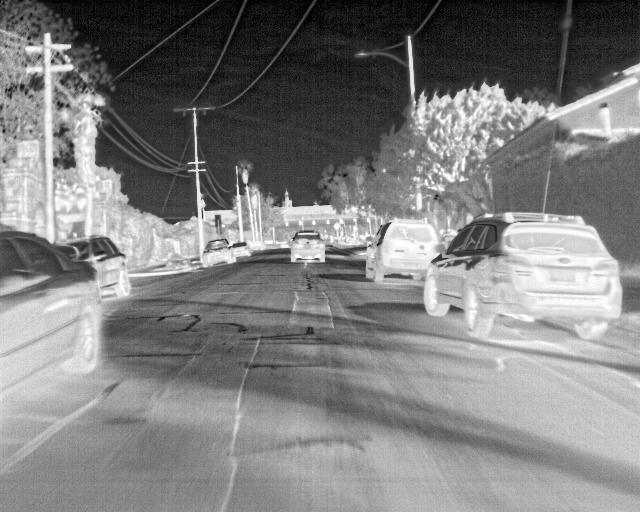car: (421, 208, 623, 343), (0, 229, 102, 387), (363, 219, 438, 286), (54, 235, 131, 299), (290, 228, 327, 265), (202, 237, 238, 268), (232, 240, 251, 258)
